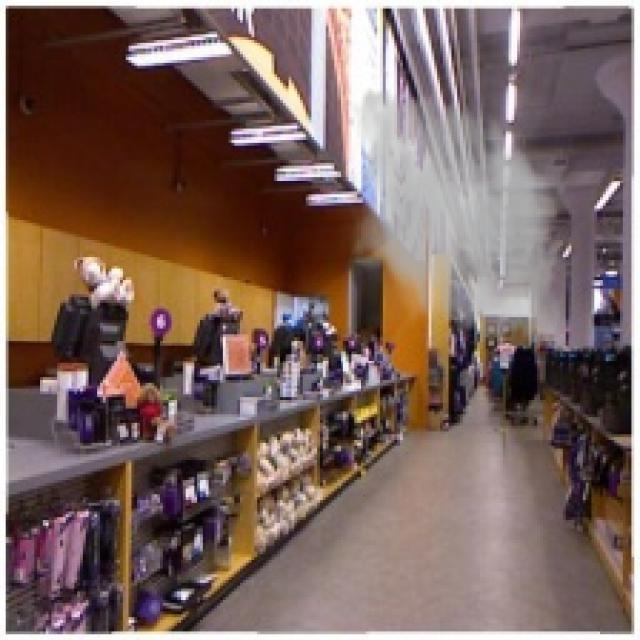Smoke: (334, 77, 580, 357)
